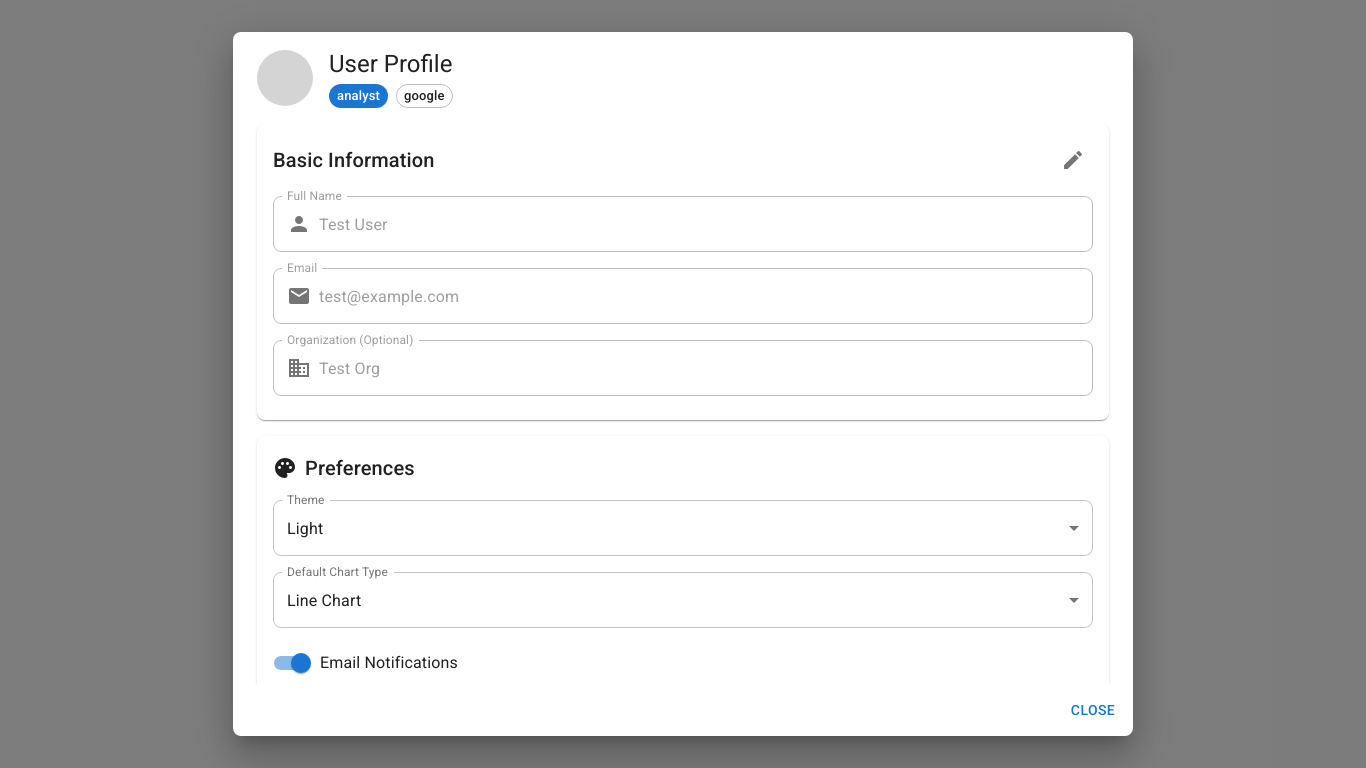
Test: UserProfile Preferences › should allow default chart type selection without edit mode
Note: Use fireEvent instead of userEvent for Material-UI Select
Press the mouse on the dropdown named "Default Chart Type" at (324, 600), box [287,590,361,610]
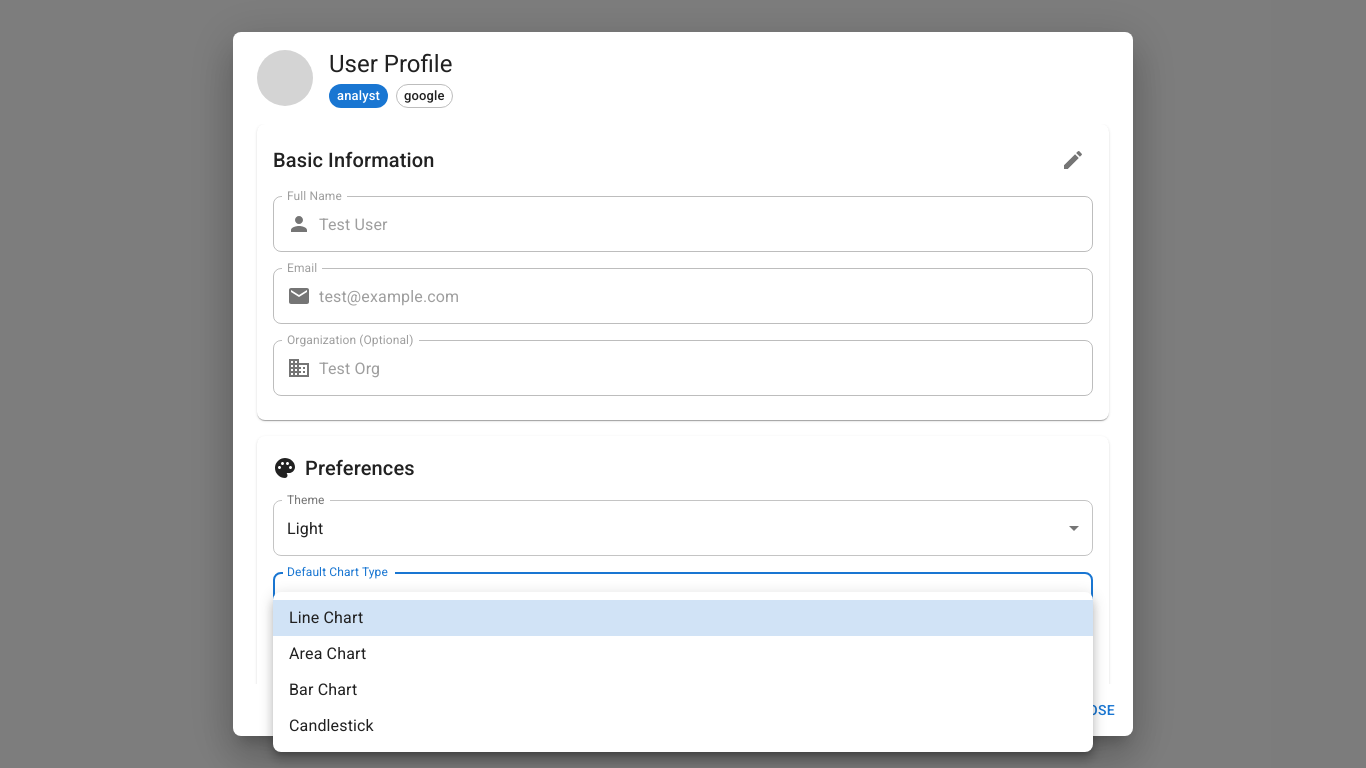
Click the option "Area Chart" at (328, 654), box [289,644,366,663]
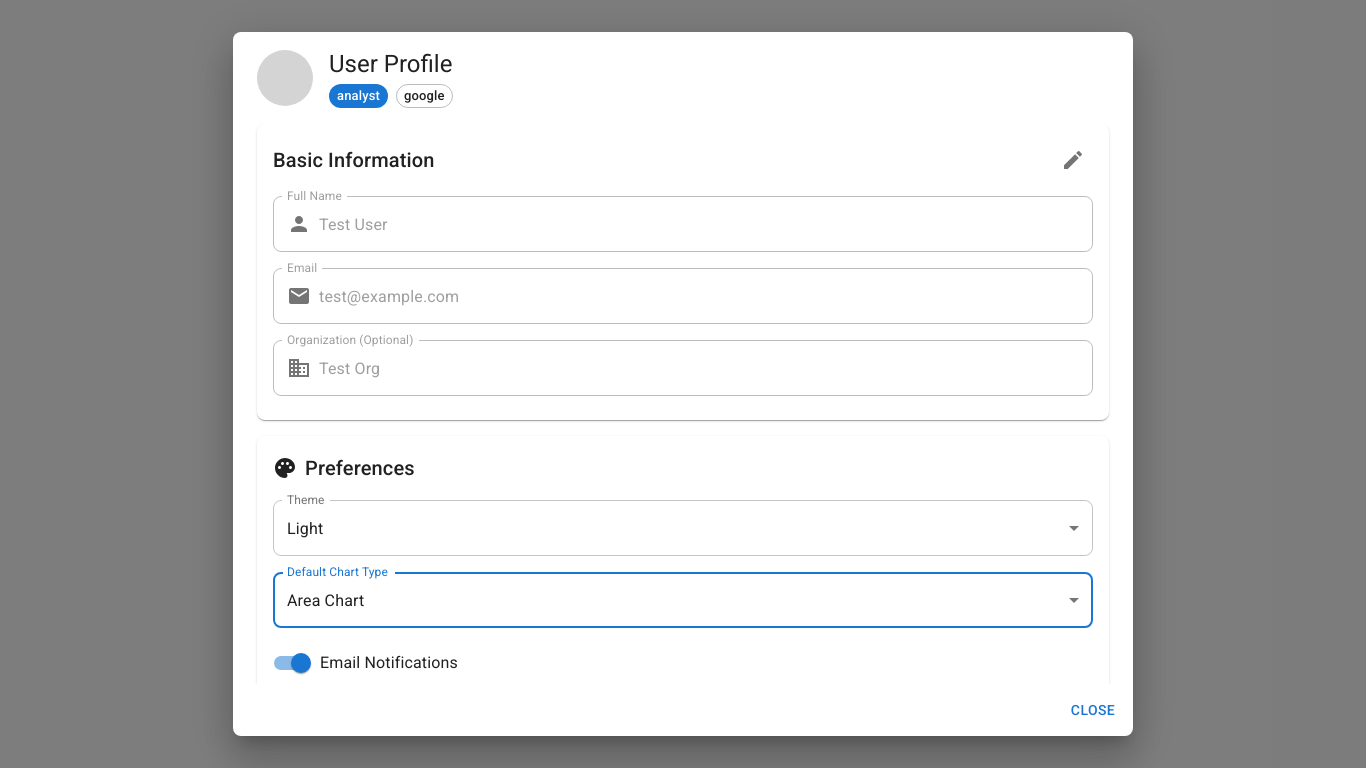
Expected: the element showing "area" is shown, [273,572,1093,628]
